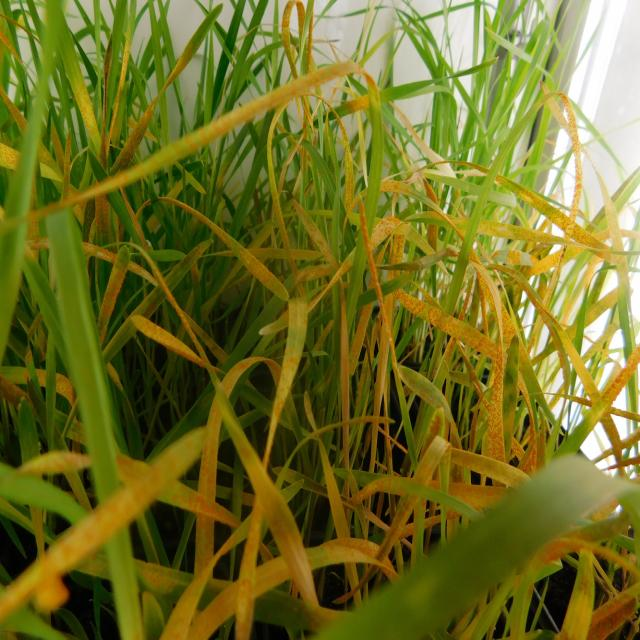wheat-yellowrust: (2, 430, 213, 609), (84, 64, 342, 203), (222, 401, 323, 607), (398, 289, 504, 461), (112, 26, 203, 168), (504, 273, 602, 404), (180, 201, 288, 301), (493, 174, 606, 258), (372, 437, 453, 552), (265, 300, 309, 465), (580, 347, 640, 433), (161, 558, 220, 640), (129, 315, 210, 368), (369, 296, 393, 473), (64, 47, 105, 146), (560, 550, 598, 640), (94, 261, 131, 352), (449, 450, 531, 488), (323, 443, 353, 542), (193, 458, 217, 575), (237, 525, 261, 639), (475, 220, 569, 246), (517, 371, 537, 473), (27, 449, 92, 476), (449, 482, 510, 508), (518, 250, 560, 278)
